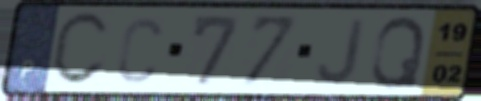7: (243, 13, 303, 90), (189, 12, 242, 88)
C: (47, 9, 113, 90), (114, 14, 165, 85)
J: (314, 17, 367, 88)
Q: (367, 14, 428, 91)
